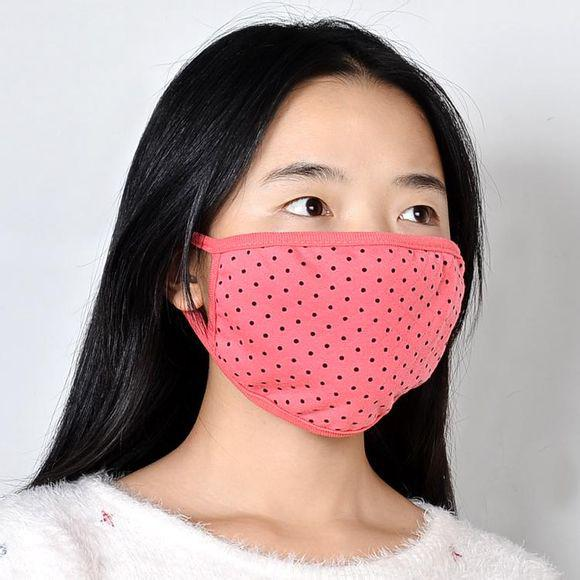OK: (182, 136, 459, 413)
